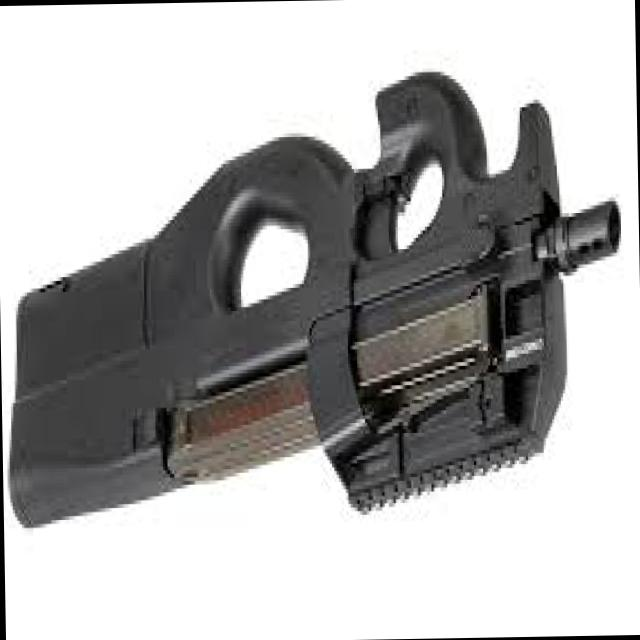Gun: (1, 118, 608, 524)
